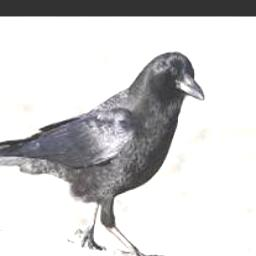Crow: (0, 52, 204, 256)
